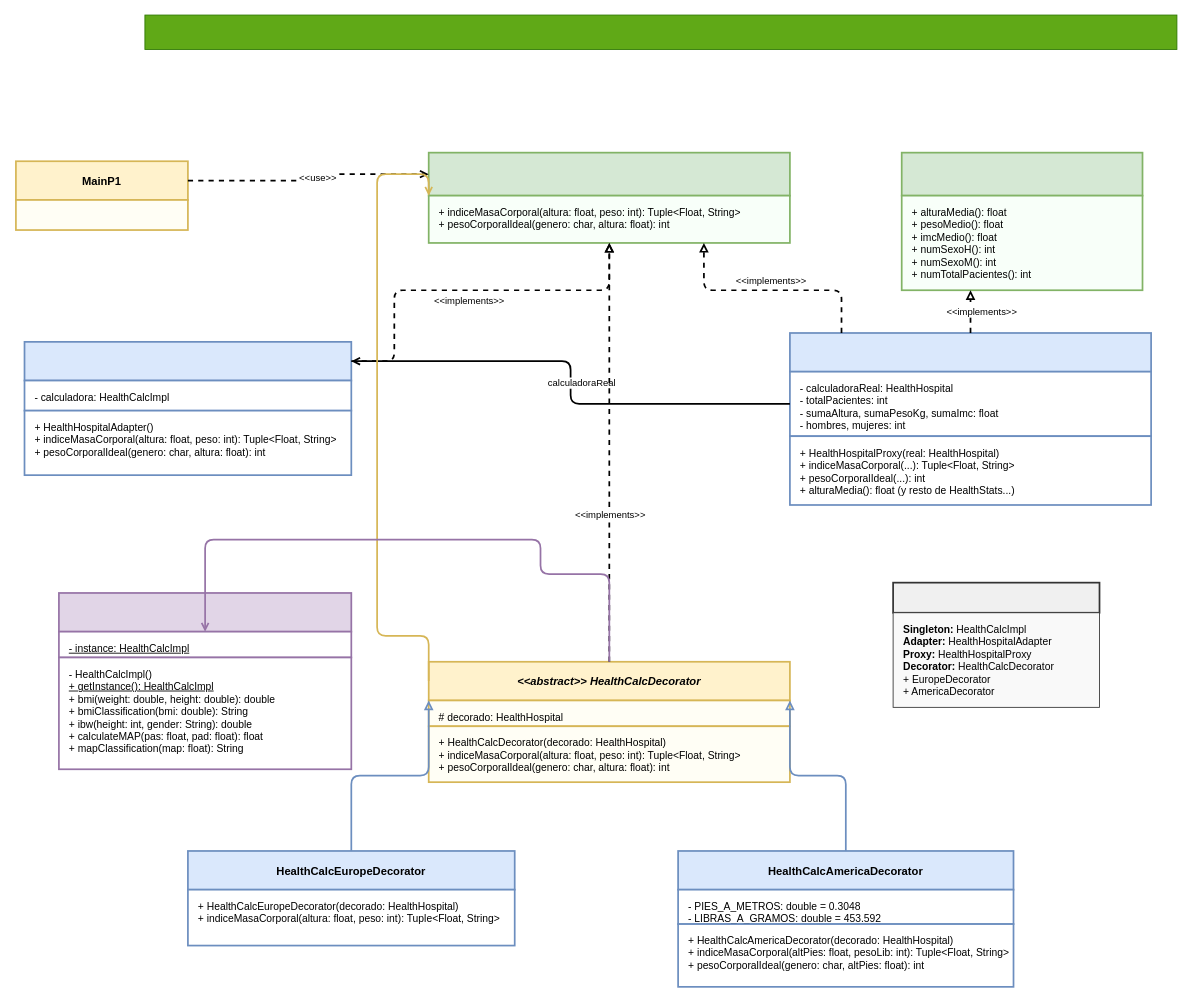
This 1192x1003 diagram has some shape labels left out. Here are the shapes that lost their labels. From the top down, the box of each, then its label:
(144, 14, 1177, 49): Diagrama UML — Todos los Patrones de Diseño aplicados a HealthCalc
(427, 151, 790, 196): <<interface>> HealthHospital
(900, 151, 1143, 196): <<interface>> HealthStats
(15, 199, 188, 230): + main(args: String[]): void
(23, 341, 352, 381): HealthHospitalAdapter
(789, 332, 1152, 372): HealthHospitalProxy
(58, 592, 352, 632): HealthCalcImpl «Singleton»
(892, 581, 1100, 613): LEYENDA DE PATRONES
